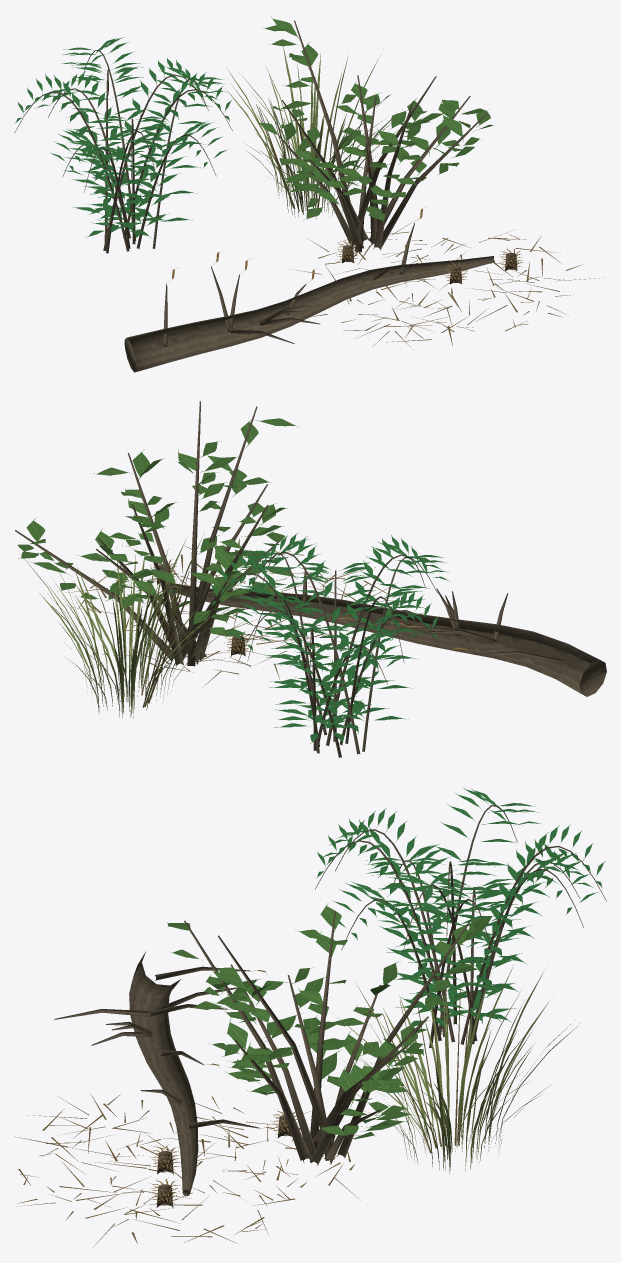
3 renders of one model, top to bottom at view 1: azimuth 30°, elevation 25°; view 2: azimuth 150°, elevation 25°; view 3: azimuth 270°, elevation 25°, orthographic. The views are drawn at different scales.
Parts seen in each view (by area): view 1: VIS_01_Shaded_Fern_Fern_Leaflets_foliage, VIS_04_Woody_Shrub_Bush_OvateLeaves_foliage, VIS_05_Fallen_Branch_Fallen_Branch_Main_bark, VIS_04_Woody_Shrub_Bush_WoodyStems_bark, VIS_03_Fescue_Tuft_Fescue_Blades_foliage, VIS_01_Shaded_Fern_Fern_Rachis_bark, VIS_02_Pine_Litter_Pine_NeedleScatter_needles, VIS_05_Fallen_Branch_Fallen_Branch_Twigs_bark, VIS_02_Pine_Litter_Pine_ConeScales_foliage, VIS_02_Pine_Litter_Pine_ConeAxis_bark, VIS_03_Fescue_Tuft_Fescue_SeedStems_needles; view 2: VIS_01_Shaded_Fern_Fern_Leaflets_foliage, VIS_04_Woody_Shrub_Bush_OvateLeaves_foliage, VIS_05_Fallen_Branch_Fallen_Branch_Main_bark, VIS_03_Fescue_Tuft_Fescue_Blades_foliage, VIS_04_Woody_Shrub_Bush_WoodyStems_bark, VIS_01_Shaded_Fern_Fern_Rachis_bark, VIS_02_Pine_Litter_Pine_NeedleScatter_needles, VIS_05_Fallen_Branch_Fallen_Branch_Twigs_bark, VIS_03_Fescue_Tuft_Fescue_SeedStems_needles; view 3: VIS_01_Shaded_Fern_Fern_Leaflets_foliage, VIS_04_Woody_Shrub_Bush_OvateLeaves_foliage, VIS_04_Woody_Shrub_Bush_WoodyStems_bark, VIS_03_Fescue_Tuft_Fescue_Blades_foliage, VIS_05_Fallen_Branch_Fallen_Branch_Main_bark, VIS_01_Shaded_Fern_Fern_Rachis_bark, VIS_02_Pine_Litter_Pine_NeedleScatter_needles, VIS_05_Fallen_Branch_Fallen_Branch_Twigs_bark, VIS_03_Fescue_Tuft_Fescue_SeedStems_needles, VIS_02_Pine_Litter_Pine_ConeAxis_bark, VIS_02_Pine_Litter_Pine_ConeScales_foliage.
Part boxes in pixels (x1,y1,x2,y2): VIS_01_Shaded_Fern_Fern_Leaflets_foliage: [15, 37, 231, 238]; VIS_04_Woody_Shrub_Bush_OvateLeaves_foliage: [259, 17, 493, 221]; VIS_05_Fallen_Branch_Fallen_Branch_Main_bark: [124, 256, 494, 372]; VIS_04_Woody_Shrub_Bush_WoodyStems_bark: [278, 20, 487, 252]; VIS_03_Fescue_Tuft_Fescue_Blades_foliage: [225, 46, 398, 218]; VIS_01_Shaded_Fern_Fern_Rachis_bark: [14, 50, 232, 253]; VIS_02_Pine_Litter_Pine_NeedleScatter_needles: [290, 218, 604, 349]; VIS_05_Fallen_Branch_Fallen_Branch_Twigs_bark: [163, 223, 414, 347]; VIS_02_Pine_Litter_Pine_ConeScales_foliage: [336, 241, 522, 282]; VIS_02_Pine_Litter_Pine_ConeAxis_bark: [342, 245, 517, 284]; VIS_03_Fescue_Tuft_Fescue_SeedStems_needles: [256, 104, 330, 212]; VIS_01_Shaded_Fern_Fern_Leaflets_foliage: [210, 533, 449, 744]; VIS_04_Woody_Shrub_Bush_OvateLeaves_foliage: [18, 418, 299, 637]; VIS_05_Fallen_Branch_Fallen_Branch_Main_bark: [166, 582, 606, 696]; VIS_03_Fescue_Tuft_Fescue_Blades_foliage: [22, 533, 242, 718]; VIS_04_Woody_Shrub_Bush_WoodyStems_bark: [15, 401, 279, 666]; VIS_01_Shaded_Fern_Fern_Rachis_bark: [209, 552, 438, 757]; VIS_02_Pine_Litter_Pine_NeedleScatter_needles: [65, 537, 406, 687]; VIS_05_Fallen_Branch_Fallen_Branch_Twigs_bark: [187, 567, 562, 663]; VIS_03_Fescue_Tuft_Fescue_SeedStems_needles: [141, 559, 192, 707]; VIS_01_Shaded_Fern_Fern_Leaflets_foliage: [316, 788, 605, 1028]; VIS_04_Woody_Shrub_Bush_OvateLeaves_foliage: [167, 903, 496, 1139]; VIS_04_Woody_Shrub_Bush_WoodyStems_bark: [184, 911, 470, 1165]; VIS_03_Fescue_Tuft_Fescue_Blades_foliage: [322, 965, 580, 1173]; VIS_05_Fallen_Branch_Fallen_Branch_Main_bark: [129, 951, 198, 1196]; VIS_01_Shaded_Fern_Fern_Rachis_bark: [315, 805, 606, 1048]; VIS_02_Pine_Litter_Pine_NeedleScatter_needles: [15, 1094, 360, 1247]; VIS_05_Fallen_Branch_Fallen_Branch_Twigs_bark: [54, 966, 258, 1128]; VIS_03_Fescue_Tuft_Fescue_SeedStems_needles: [383, 990, 470, 1153]; VIS_02_Pine_Litter_Pine_ConeAxis_bark: [156, 1115, 291, 1207]; VIS_02_Pine_Litter_Pine_ConeScales_foliage: [149, 1109, 299, 1205].
Size of the model in its own units: 2 by 0.8424 by 1.84.
Materials: 3 (3 with a texture image).
